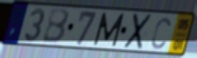3: (23, 7, 47, 44)
7: (76, 9, 99, 47)
B: (41, 8, 71, 45)
C: (150, 16, 172, 51)
M: (92, 12, 126, 48)
X: (122, 12, 154, 51)
